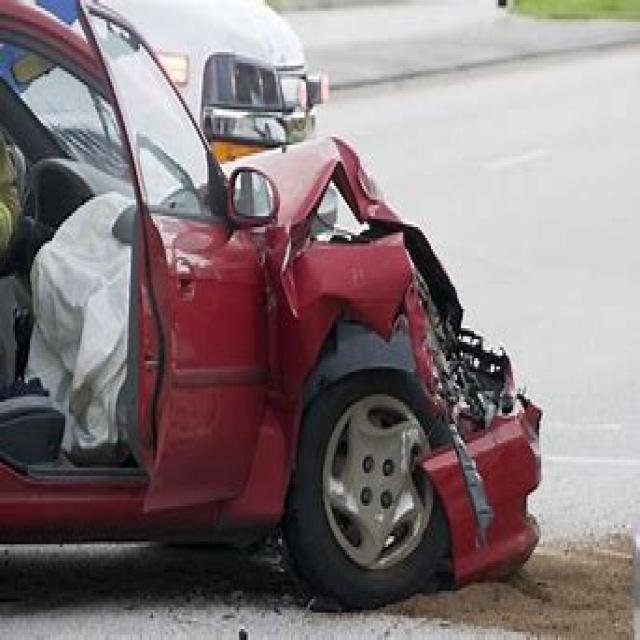Accident: (200, 101, 580, 637)
